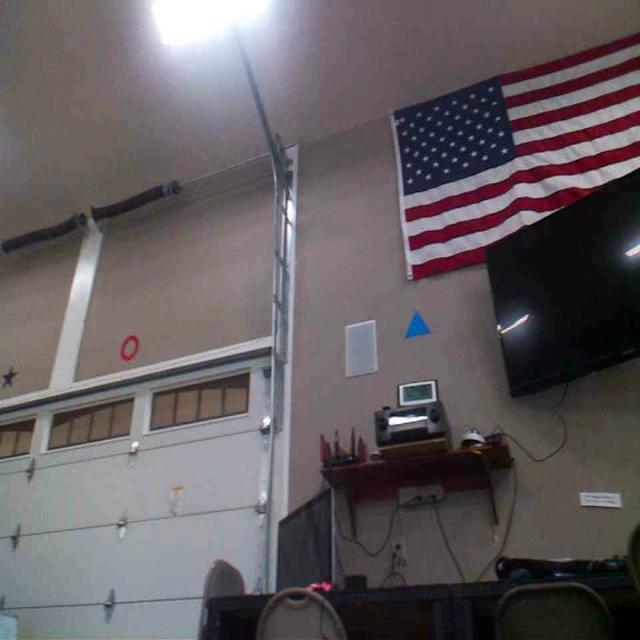ring_red: (120, 333, 140, 361)
star_black: (0, 363, 18, 390)
triangle_blue: (405, 309, 429, 337)
